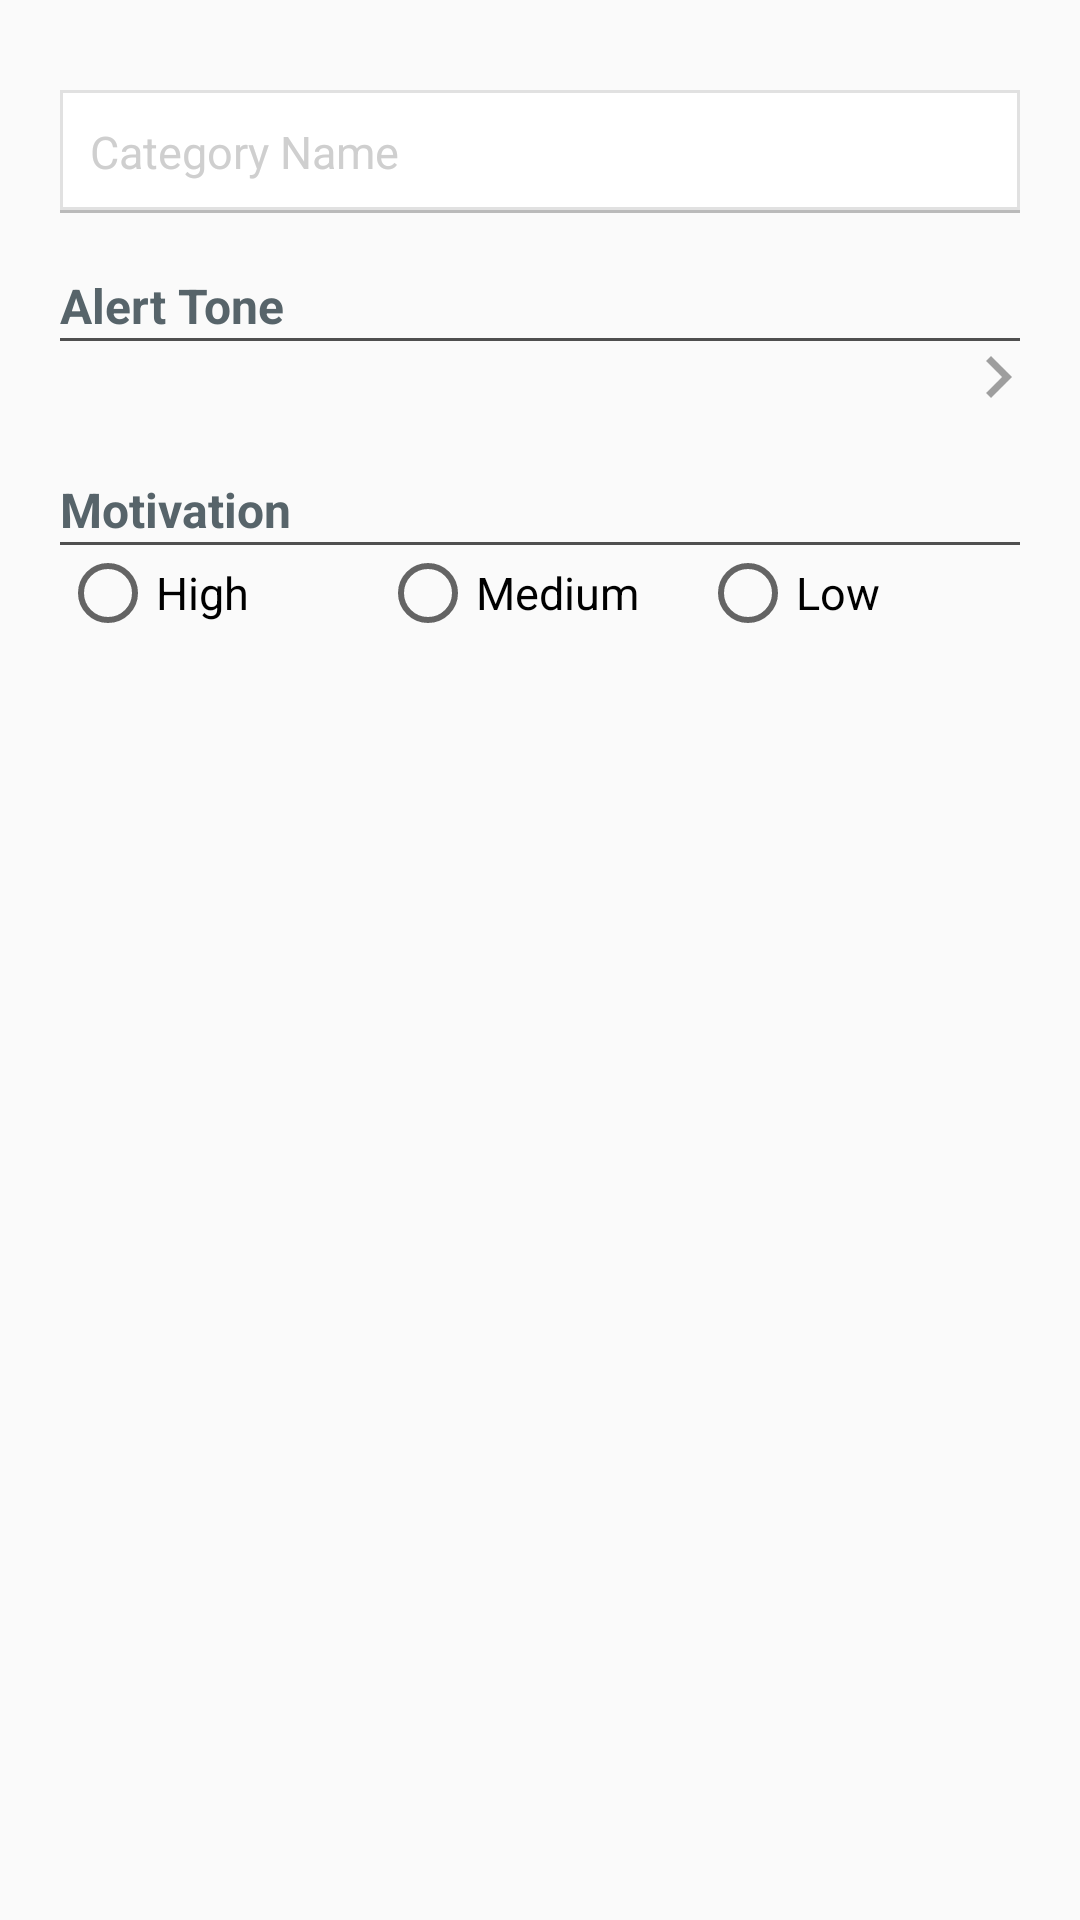

Where icons sit on this 1080px x 1920px app screen, as (x1, y1, x2, y2):
right arrow: (986, 356, 1012, 398)
